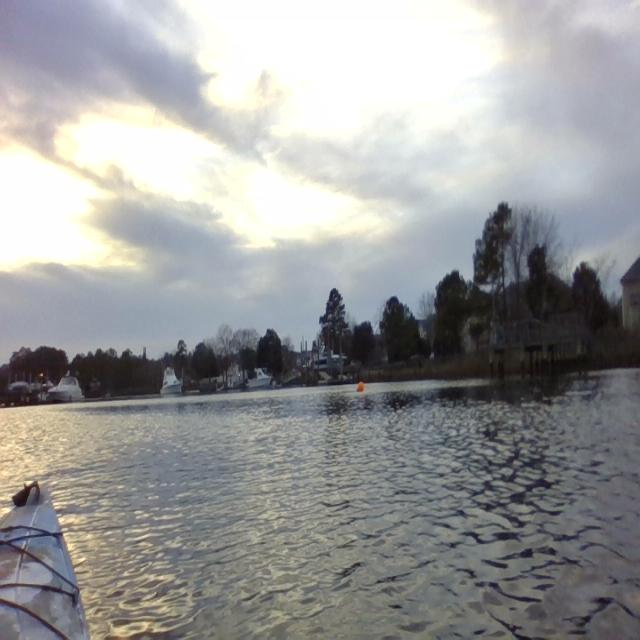Buoy: (357, 377, 366, 397)
